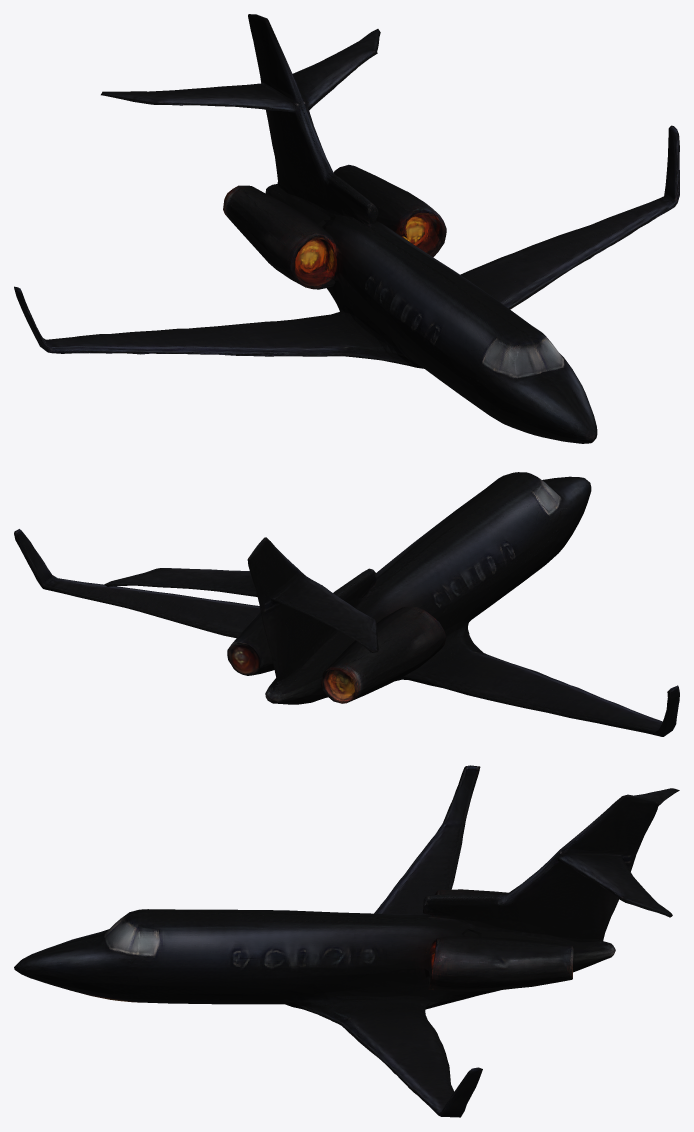
3 renders of one model, top to bottom at view 1: azimuth 30°, elevation 25°; view 2: azimuth 150°, elevation 25°; view 3: azimuth 270°, elevation 25°, orthographic. The views are drawn at different scales.
Parts seen in each view (by area): view 1: world; view 2: world; view 3: world.
Part boxes in pixels (x1,y1,x2,y2): world: (14, 14, 679, 443); world: (14, 472, 679, 736); world: (14, 765, 679, 1117).
Bounding box in the file's own units: 1 × 0.3182 × 0.9297.
1 material, 1 textured.
